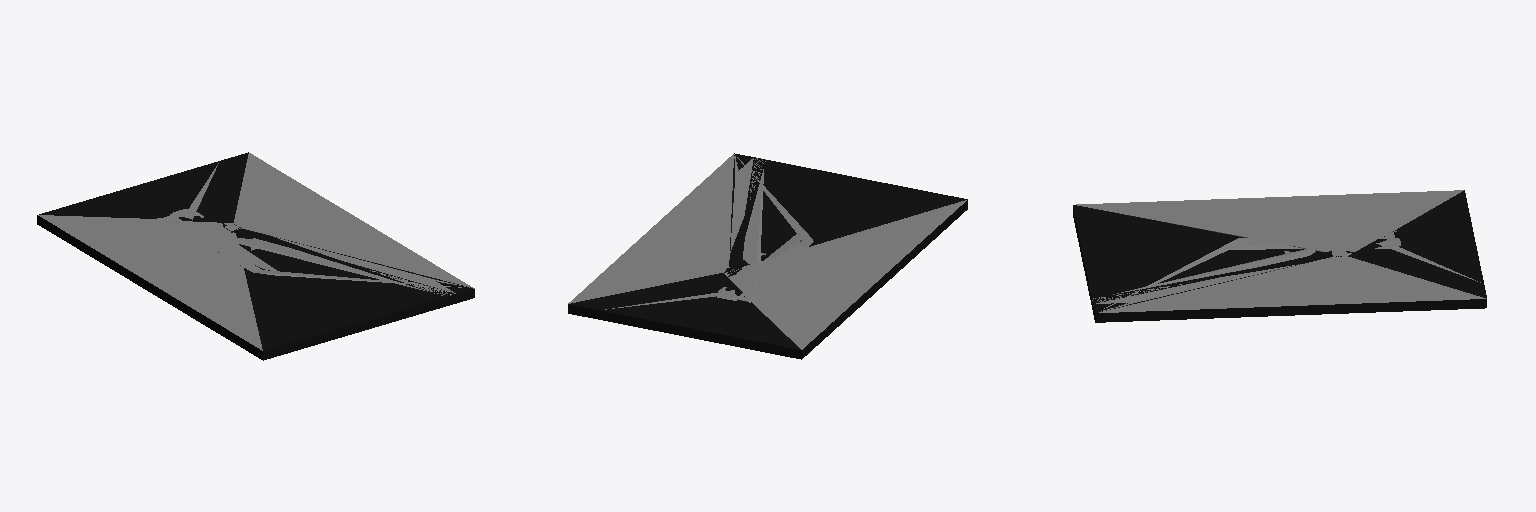
The model's file is Laptop.obj.
3 renders of one model, left to right at view 1: azimuth 30°, elevation 25°; view 2: azimuth 150°, elevation 25°; view 3: azimuth 270°, elevation 25°, orthographic.
Visible parts, largest first — view 1: Cylinder011, Box20329, Box20311; view 2: Cylinder011, Box20329, Box20311; view 3: Cylinder011, Box20329, Box20311.
Boxes of the visible parts, <box> form: Cylinder011: <box>38,153,473,350</box>; Box20329: <box>37,152,474,360</box>; Box20311: <box>221,158,454,296</box>; Cylinder011: <box>568,154,966,349</box>; Box20329: <box>568,153,967,359</box>; Box20311: <box>652,157,765,291</box>; Cylinder011: <box>1076,190,1485,312</box>; Box20329: <box>1073,190,1486,322</box>; Box20311: <box>1092,251,1483,303</box>.
Bounding box in the file's own units: 686 × 27.37 × 975.